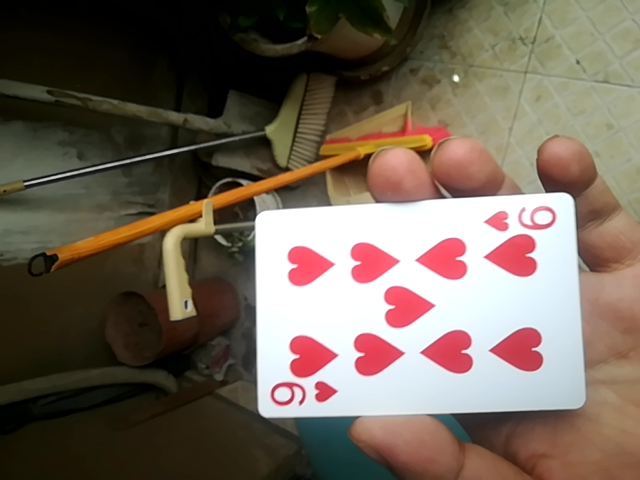hx 9: (246, 188, 586, 420)
